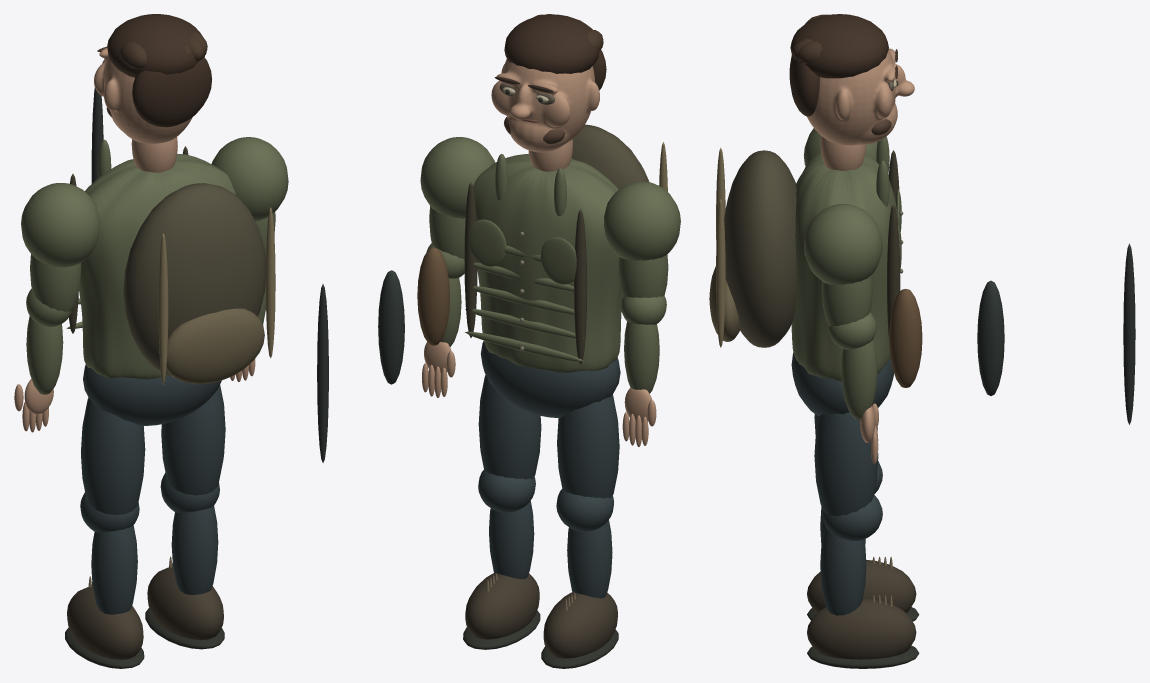
The model's file is rowan.glb.
3 views of the same model, side by side, from view 1: azimuth 30°, elevation 25°; view 2: azimuth 150°, elevation 25°; view 3: azimuth 270°, elevation 25° (orthographic). The views are drawn at different scales.
Parts seen in each view (by area): view 1: backpack, torso, thigh, pack_pocket, shoulder, thigh.001, pelvis, shoulder.001, hair, rear_hair, boot, boot.001 (+16 smaller); view 2: torso, sculpted_face, pelvis, thigh, shoulder, thigh.001, hair, shoulder.001, boot.001, boot, calf, calf.001 (+24 smaller); view 3: backpack, torso, sculpted_face, thigh.001, shoulder.001, boot.001, hair, calf.001, stock, receiver, pelvis, boot (+11 smaller).
Part boxes in pixels (<box>): backpack: <box>123,183,265,376</box>; torso: <box>79,154,235,379</box>; thigh: <box>81,397,145,514</box>; pack_pocket: <box>166,308,264,384</box>; shoulder: <box>21,183,100,267</box>; thigh.001: <box>161,385,225,495</box>; pelvis: <box>83,364,221,425</box>; shoulder.001: <box>211,137,288,221</box>; hair: <box>107,14,204,77</box>; rear_hair: <box>132,57,211,127</box>; boot: <box>67,587,143,659</box>; boot.001: <box>147,567,223,640</box>; torso: <box>473,154,622,372</box>; sculpted_face: <box>491,58,599,152</box>; pelvis: <box>480,341,620,417</box>; thigh: <box>557,394,619,498</box>; shoulder: <box>604,181,680,260</box>; thigh.001: <box>478,375,541,479</box>; hair: <box>504,14,599,73</box>; shoulder.001: <box>420,137,494,218</box>; boot.001: <box>465,573,539,639</box>; boot: <box>543,592,617,658</box>; calf: <box>567,520,612,598</box>; calf.001: <box>489,501,534,579</box>; backpack: <box>724,150,797,347</box>; torso: <box>791,153,898,381</box>; sculpted_face: <box>807,48,914,145</box>; thigh.001: <box>814,412,878,516</box>; shoulder.001: <box>804,204,882,284</box>; boot.001: <box>807,598,916,659</box>; hair: <box>790,14,888,78</box>; calf.001: <box>820,526,866,615</box>; stock: <box>889,289,922,387</box>; receiver: <box>977,280,1004,395</box>; pelvis: <box>791,352,893,416</box>; boot: <box>807,560,916,612</box>.
Size of the model in its own units: 0.96 by 2.26 by 1.4.
